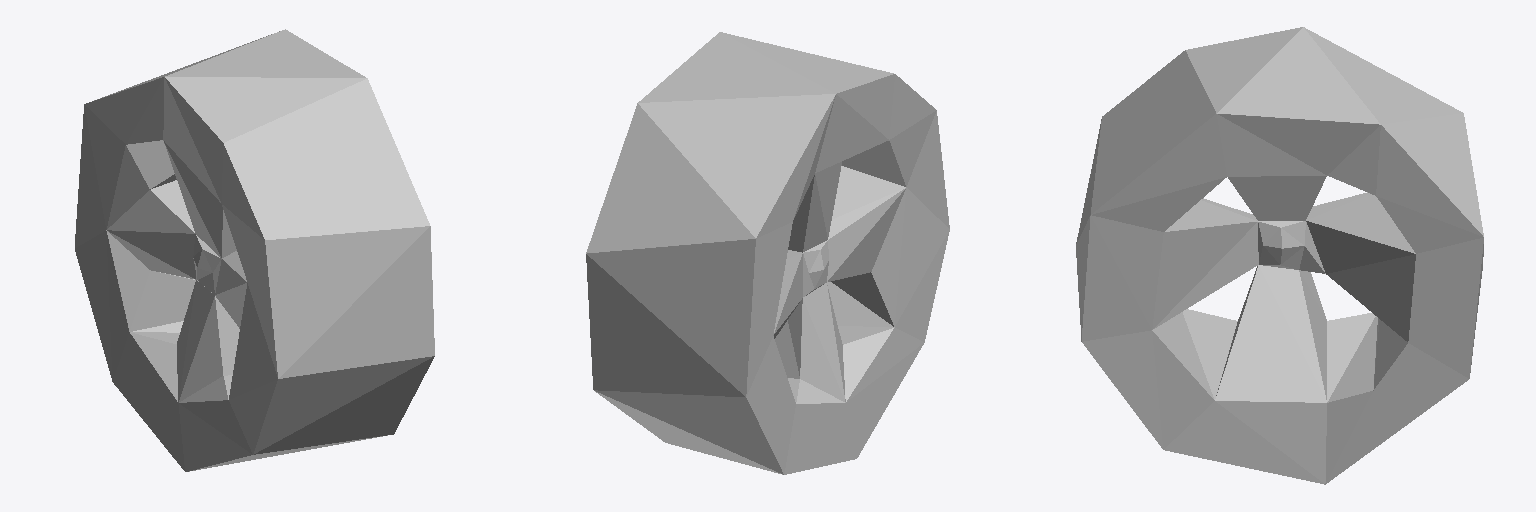
File: f1-70s_rear_wheel.obj
3 views of the same model, side by side, from view 1: azimuth 30°, elevation 25°; view 2: azimuth 150°, elevation 25°; view 3: azimuth 270°, elevation 25° (orthographic).
Visible parts, largest first — view 1: Circle.004; view 2: Circle.004; view 3: Circle.004.
Boxes of the visible parts, x1,y1,x2,y2 form: Circle.004: [75, 29, 434, 471]; Circle.004: [586, 32, 949, 474]; Circle.004: [1076, 27, 1483, 484].
Size of the model in its own units: 1.79 by 4.07 by 3.96.